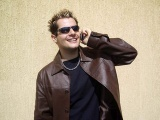male: (45, 10, 87, 53)
